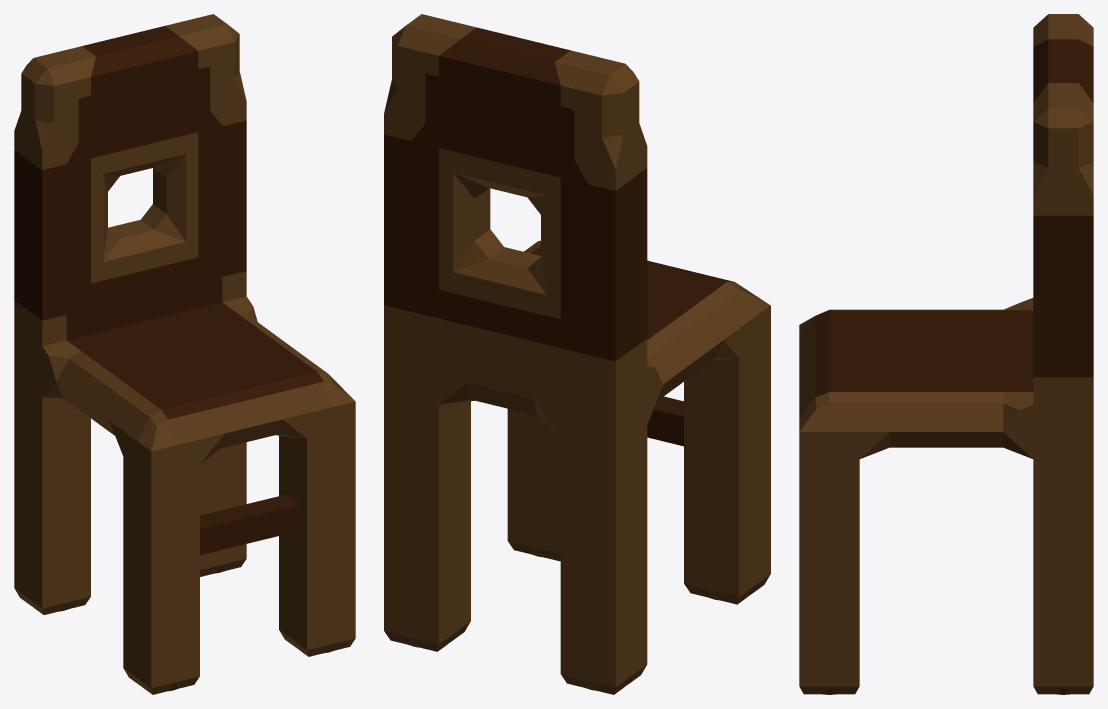
File: Chair.fbx
3 renders of one model, left to right at view 1: azimuth 30°, elevation 25°; view 2: azimuth 150°, elevation 25°; view 3: azimuth 270°, elevation 25°, orthographic. The views are drawn at different scales.
Parts seen in each view (by area): view 1: Cube; view 2: Cube; view 3: Cube.
Boxes of the visible parts, x1,y1,x2,y2 form: Cube: [14, 14, 355, 694]; Cube: [384, 14, 770, 694]; Cube: [799, 14, 1093, 694].
Bounding box in the file's own units: 421 × 489 × 1072.
